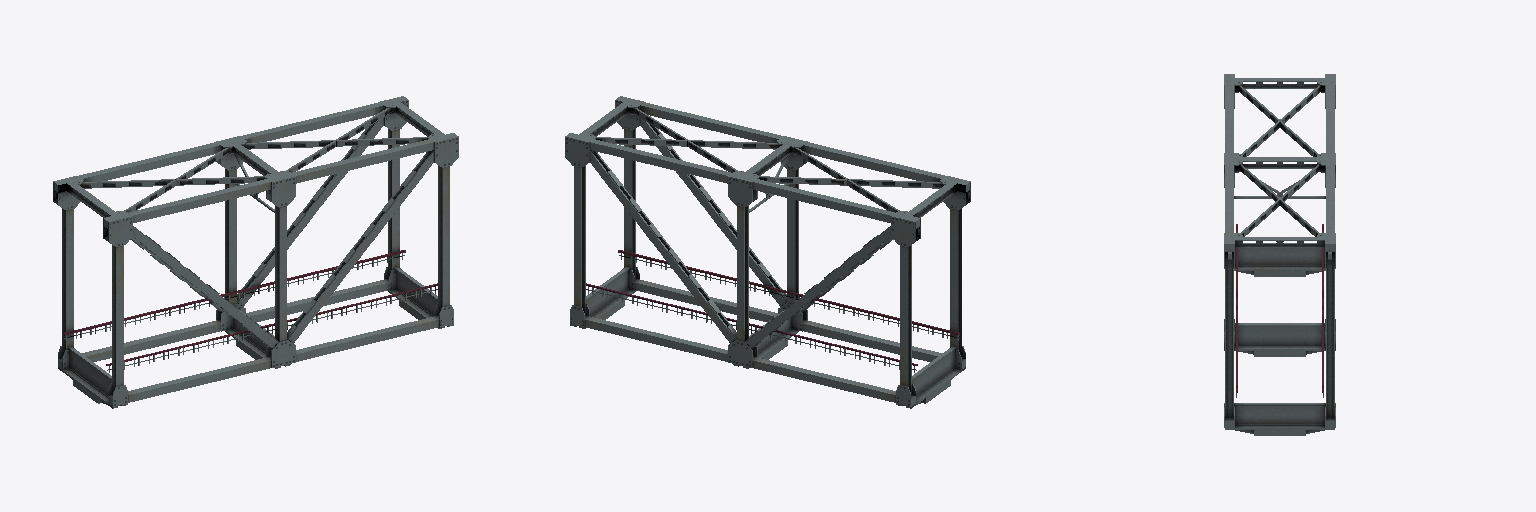
The picture shows the model from 3 angles: view 1: azimuth 30°, elevation 25°; view 2: azimuth 150°, elevation 25°; view 3: azimuth 270°, elevation 25°; orthographic projection.
Parts seen in each view (by area): view 1: RAIL_BASE_mvp_bridge; view 2: RAIL_BASE_mvp_bridge; view 3: RAIL_BASE_mvp_bridge.
Boxes of the visible parts, box(x1,y1,x2,y2) form: RAIL_BASE_mvp_bridge: box(53, 96, 458, 408); RAIL_BASE_mvp_bridge: box(565, 96, 970, 408); RAIL_BASE_mvp_bridge: box(1224, 74, 1335, 435).
Bounding box in the file's own units: 23.75 × 12.5 × 6.5.
Materials: 1 (1 with a texture image).